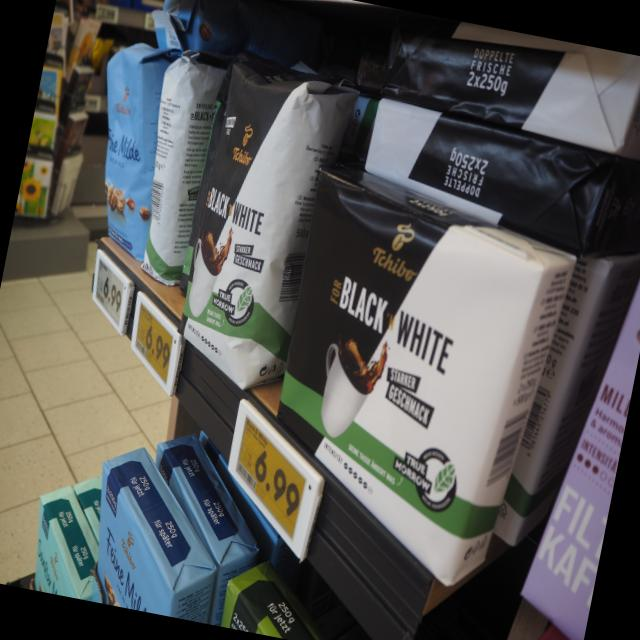BW Bohne: (170, 48, 323, 404)
BW Gemahlen: (269, 162, 553, 603)
FM Bohne: (97, 51, 163, 265)
